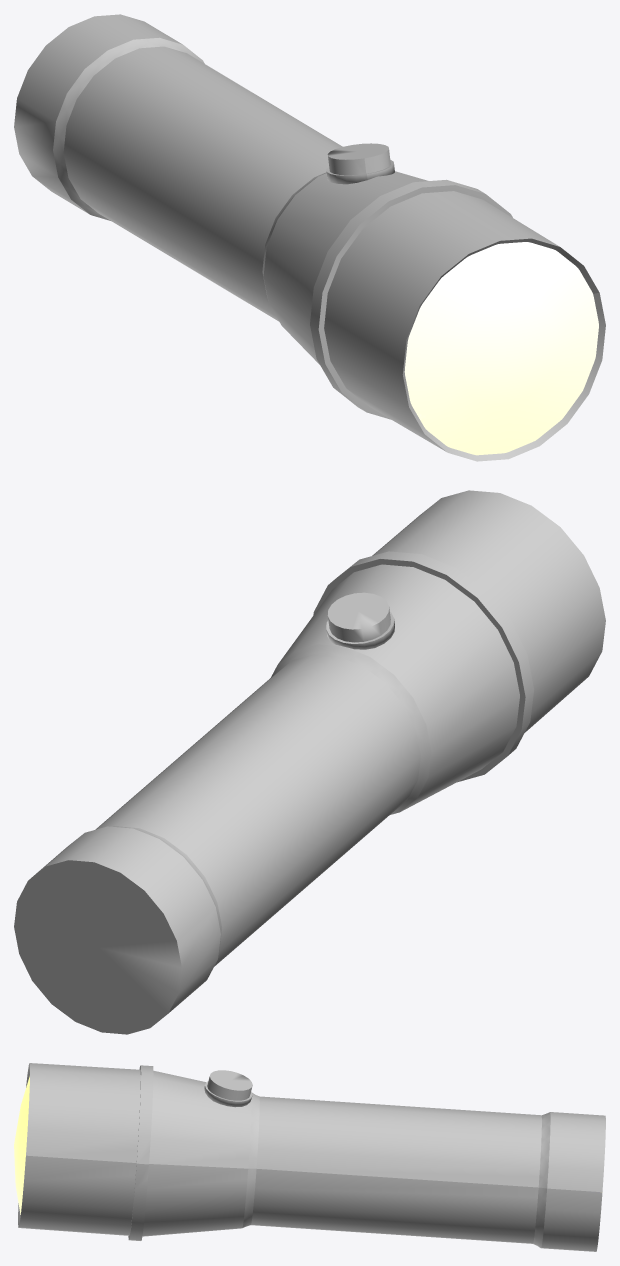
The model's file is flashlight.fbx.
The picture shows the model from 3 angles, top to bottom: view 1: azimuth 30°, elevation 25°; view 2: azimuth 150°, elevation 25°; view 3: azimuth 270°, elevation 25°; orthographic projection. The views are drawn at different scales.
Parts seen in each view (by area): view 1: defaultMaterial; view 2: defaultMaterial; view 3: defaultMaterial.
Boxes of the visible parts, x1,y1,x2,y2 form: defaultMaterial: [14, 14, 605, 461]; defaultMaterial: [14, 490, 605, 1034]; defaultMaterial: [14, 1063, 605, 1251].
Bounding box in the file's own units: 802 × 880 × 2685.
